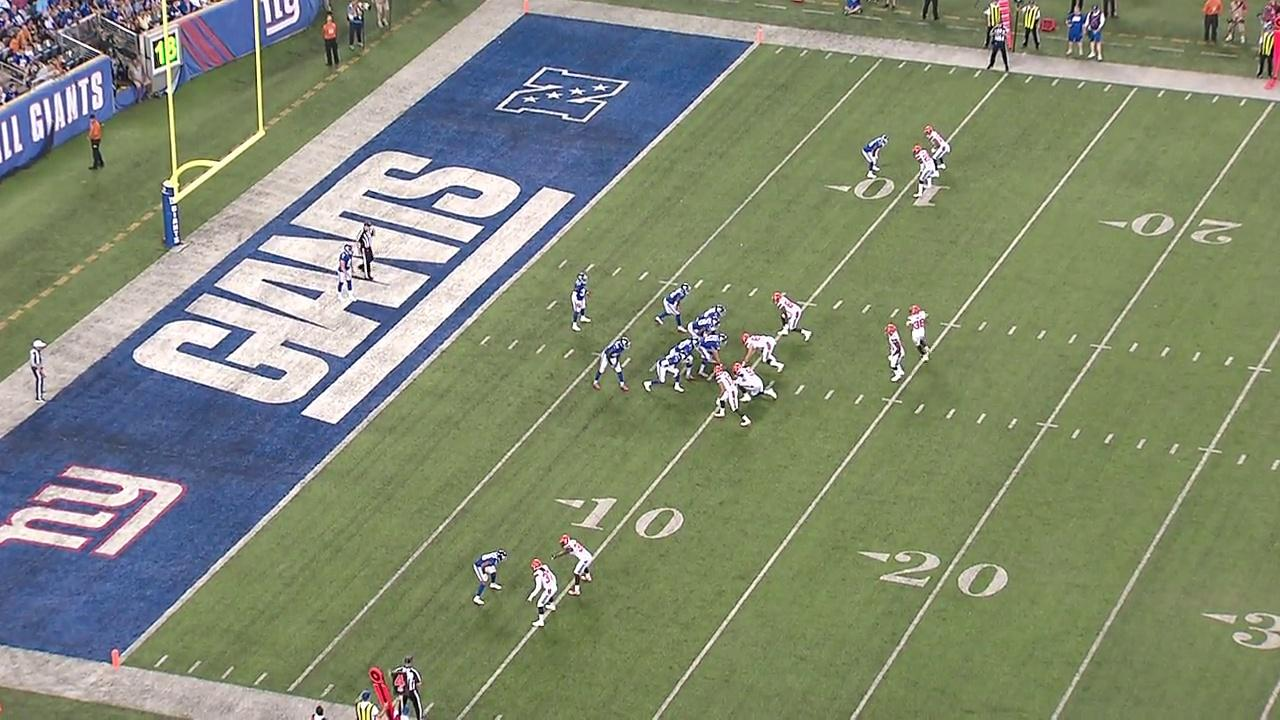five_hash: (1197, 446, 1222, 455), (938, 321, 963, 329), (1034, 420, 1059, 428), (1247, 365, 1272, 373), (657, 280, 679, 288), (1089, 343, 1114, 350), (796, 300, 819, 307), (881, 397, 904, 404)
hash: (504, 335, 521, 353), (820, 387, 837, 402), (911, 401, 928, 416), (974, 410, 989, 426), (1134, 435, 1149, 451), (975, 318, 990, 333), (943, 406, 958, 421), (1101, 431, 1116, 446), (829, 297, 845, 311), (851, 392, 867, 406), (792, 383, 807, 397), (1068, 427, 1083, 441), (1166, 441, 1181, 455), (1034, 327, 1049, 341), (534, 342, 548, 356), (562, 347, 576, 361), (888, 306, 902, 320), (1006, 416, 1020, 430), (1235, 452, 1249, 466), (620, 355, 633, 370), (1157, 345, 1172, 358), (1190, 350, 1205, 363), (859, 302, 873, 315), (1006, 322, 1019, 336), (1222, 355, 1236, 368), (610, 265, 623, 278), (692, 278, 705, 291), (1066, 332, 1079, 345), (1127, 340, 1140, 353), (582, 261, 595, 274), (637, 270, 651, 282), (719, 281, 733, 293), (1269, 457, 1280, 472), (479, 334, 491, 347), (747, 287, 761, 298), (557, 258, 568, 270)
marker: (368, 667, 396, 720), (998, 0, 1012, 51), (1274, 18, 1280, 80)
number: (875, 547, 1016, 601), (570, 494, 686, 542), (1128, 208, 1247, 250), (852, 173, 955, 213)
player: (110, 649, 120, 667), (755, 29, 765, 43), (523, 0, 530, 14)
